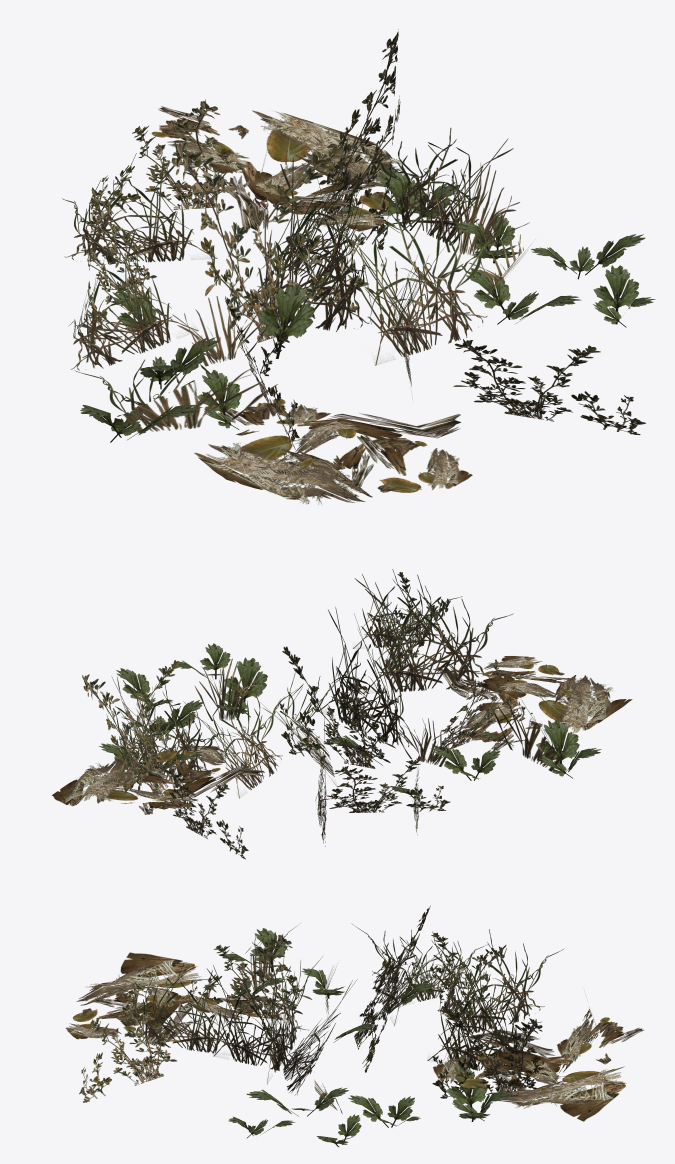
File: desert_grass3.glb
3 views of the same model, one above another, from view 1: azimuth 30°, elevation 25°; view 2: azimuth 150°, elevation 25°; view 3: azimuth 270°, elevation 25° (orthographic). The views are drawn at different scales.
Visible parts, largest first — view 1: Group; view 2: Group; view 3: Group.
Part boxes in pixels (box(x1,y1,x2,y2)): Group: box(62, 29, 655, 504); Group: box(52, 569, 632, 859); Group: box(65, 905, 643, 1146).
Size of the model in its own units: 3.73 by 1.07 by 4.72.
Materials: 1 (1 with a texture image).
